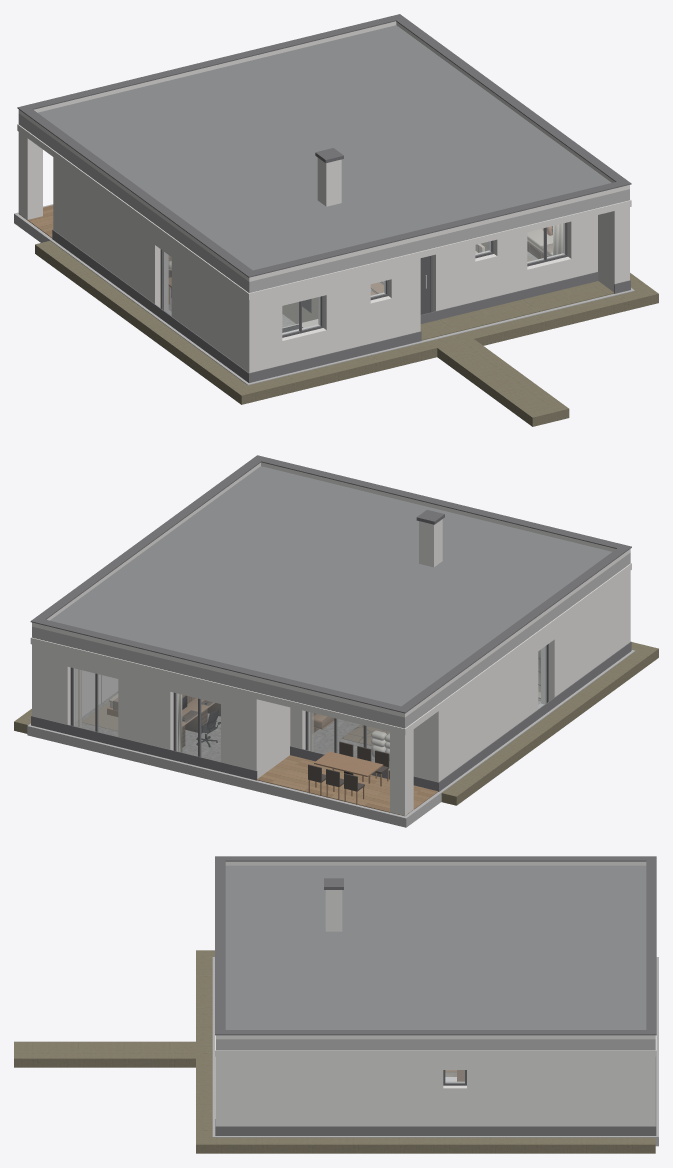
File: bungalov.glb
3 views of the same model, one above another, from view 1: azimuth 30°, elevation 25°; view 2: azimuth 150°, elevation 25°; view 3: azimuth 270°, elevation 25° (orthographic). The views are drawn at different scales.
Parts seen in each view (by area): view 1: Roof membrane, Ext W1 end, Roof slab, Path S, Ext W1 0, Path W, Walkway, Ext S1 1, Floor 0.01 Vstup, Ext S1 0, Fascia S, Parapet S coping (+28 smaller); view 2: Roof membrane, Roof slab, Ext W1 end, Foundation slab, Ext W1 0, Path W, Ext N2 1, Floor 0.02 Terasa, Ext N2 0, Fascia N, Parapet N coping, Parapet S coping (+25 smaller); view 3: Roof membrane, Ext E 0, Ext E end, Path E, Roof slab, Walkway, Plinth.003, Path S, Fascia E, Parapet W coping, Parapet E coping, Ext wing end (+7 smaller).
Part boxes in pixels (box(x1,y1,x2,y2)): Roof membrane: box(37, 25, 611, 270); Ext W1 end: box(61, 163, 168, 310); Roof slab: box(18, 113, 629, 292); Path S: box(231, 292, 640, 404); Ext W1 0: box(171, 244, 241, 366); Path W: box(35, 241, 245, 396); Walkway: box(437, 339, 569, 426); Ext S1 1: box(318, 270, 370, 353); Floor 0.01 Vstup: box(420, 281, 613, 340); Ext S1 0: box(241, 292, 282, 372); Fascia S: box(243, 199, 631, 299); Parapet S coping: box(243, 179, 631, 277); Roof membrane: box(50, 466, 611, 706); Roof slab: box(32, 552, 630, 728); Ext W1 end: box(446, 638, 538, 776); Foundation slab: box(27, 650, 634, 827); Ext W1 0: box(541, 576, 622, 704); Path W: box(441, 652, 648, 805); Ext N2 1: box(118, 665, 177, 751); Floor 0.02 Terasa: box(257, 755, 438, 815); Ext N2 0: box(221, 690, 264, 778); Fascia N: box(30, 637, 410, 735); Parapet N coping: box(30, 618, 410, 713); Parapet S coping: box(252, 455, 631, 550); Roof membrane: box(225, 865, 646, 1029); Ext E 0: box(248, 1056, 443, 1126); Ext E end: box(467, 1056, 655, 1126); Path E: box(196, 1136, 655, 1153); Roof slab: box(216, 1039, 655, 1050); Walkway: box(14, 1041, 195, 1067); Plinth.003: box(215, 1126, 656, 1135); Path S: box(196, 950, 214, 1136); Fascia E: box(226, 1050, 645, 1056); Parapet W coping: box(223, 856, 648, 861); Parapet E coping: box(223, 1030, 647, 1035); Ext wing end: box(216, 1056, 247, 1126).
Size of what is drawn, in the model's own units: 13.65 by 4.96 by 19.15.
65 materials, 17 textured.
